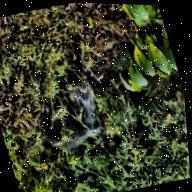boar: (14, 36, 131, 169)
